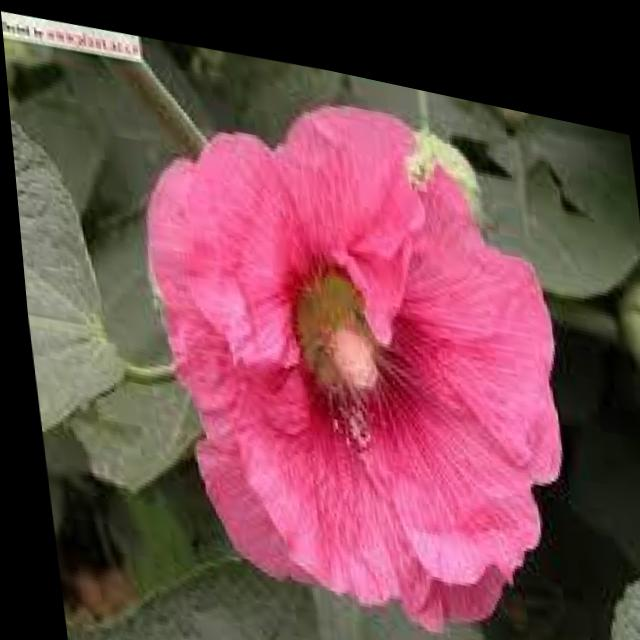Flower: (112, 47, 587, 640)
